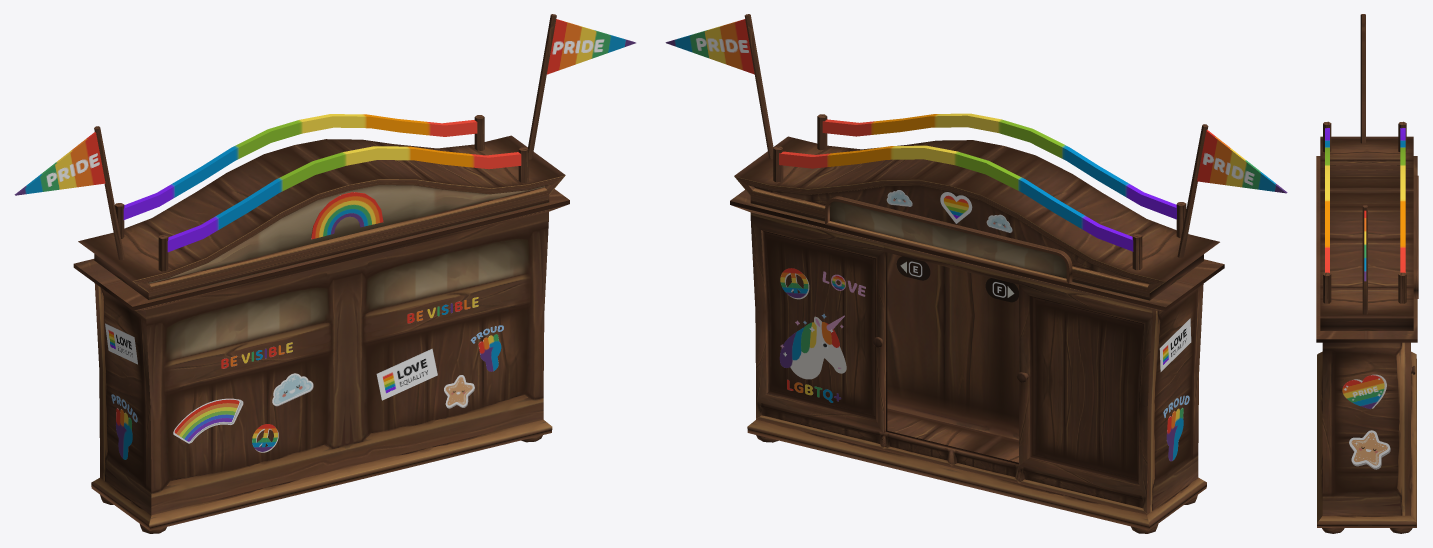
File: wardrobe.glb
3 renders of one model, left to right at view 1: azimuth 30°, elevation 25°; view 2: azimuth 150°, elevation 25°; view 3: azimuth 270°, elevation 25°, orthographic. The views are drawn at different scales.
Visible parts, largest first — view 1: wardrobe_new, wardrobe_new.002, wardrobe_new.001, Plane.019, Plane.020, Torus.003, Plane.009, Plane.008, Plane.017, Plane.003, Plane.010, Plane.001; view 2: wardrobe_new, wardrobe_new.001, wardrobe_new.002, Plane.019, Plane.020, Plane.002, Cylinder.006, Plane.003, Plane.010; view 3: wardrobe_new, wardrobe_new.001, wardrobe_new.002, Plane.006, Plane.014, Plane.020, Plane.019.
Boxes of the visible parts, <box> form: wardrobe_new: <box>73,135,569,533</box>; wardrobe_new.002: <box>158,146,528,271</box>; wardrobe_new.001: <box>115,114,484,238</box>; Plane.019: <box>528,14,635,159</box>; Plane.020: <box>14,126,124,260</box>; Torus.003: <box>311,192,383,239</box>; Plane.009: <box>376,348,437,400</box>; Plane.008: <box>173,398,243,443</box>; Plane.017: <box>272,373,313,406</box>; Plane.003: <box>111,394,137,459</box>; Plane.010: <box>105,323,137,364</box>; Plane.001: <box>470,325,503,371</box>; wardrobe_new: <box>730,136,1224,533</box>; wardrobe_new.001: <box>773,145,1142,270</box>; wardrobe_new.002: <box>817,113,1186,238</box>; Plane.019: <box>665,14,773,159</box>; Plane.020: <box>1177,124,1287,257</box>; Plane.002: <box>779,314,846,402</box>; Cylinder.006: <box>896,256,1018,302</box>; Plane.003: <box>1163,395,1189,461</box>; Plane.010: <box>1159,318,1191,371</box>; wardrobe_new: <box>1316,136,1418,533</box>; wardrobe_new.001: <box>1398,121,1406,303</box>; wardrobe_new.002: <box>1323,121,1331,303</box>; Plane.006: <box>1342,374,1386,409</box>; Plane.014: <box>1349,430,1390,469</box>; Plane.020: <box>1360,14,1365,143</box>; Plane.019: <box>1362,205,1367,314</box>.
Size of what is drawn, in the model's own units: 7.43 by 4.55 by 1.24.
5 materials, 4 textured.
